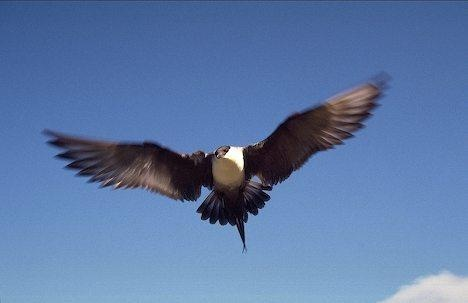bird: (44, 74, 392, 253)
